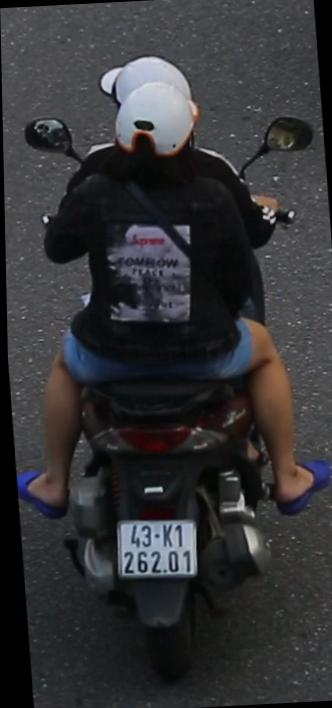LP: (110, 510, 201, 586)
helmet: (107, 80, 211, 204)
